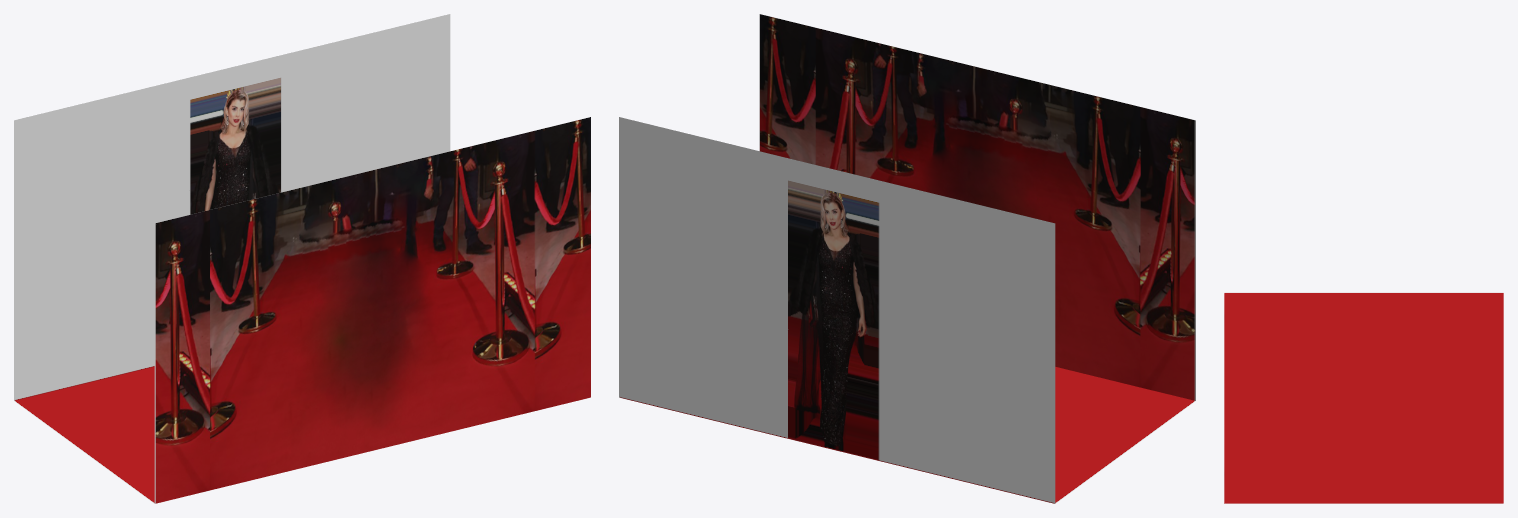
File: Mash.gltf
3 views of the same model, side by side, from view 1: azimuth 30°, elevation 25°; view 2: azimuth 150°, elevation 25°; view 3: azimuth 270°, elevation 25° (orthographic).
Parts seen in each view (by area): view 1: Plane; view 2: Plane; view 3: Plane.
Part boxes in pixels (x1,y1,x2,y2): Plane: [14, 14, 590, 503]; Plane: [619, 14, 1195, 503]; Plane: [1224, 292, 1503, 503].
Bounding box in the file's own units: 2 × 1.23 × 1.12.
Materials: 1 (1 with a texture image).
